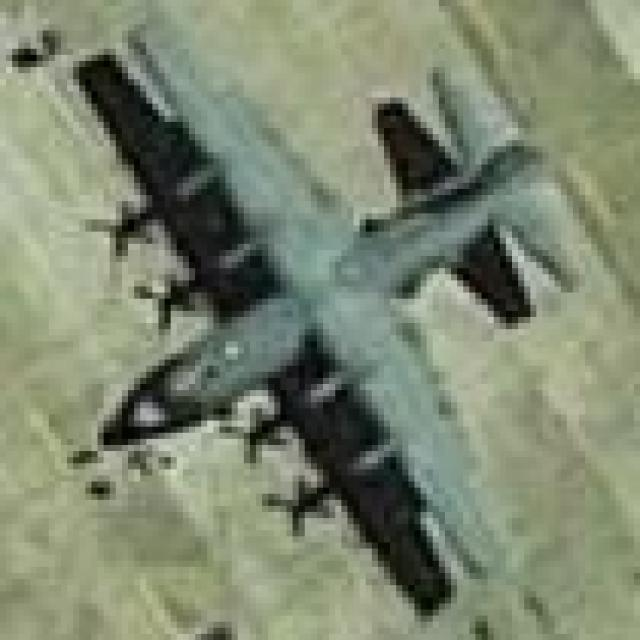C-130_TopDown: (71, 7, 590, 629)
